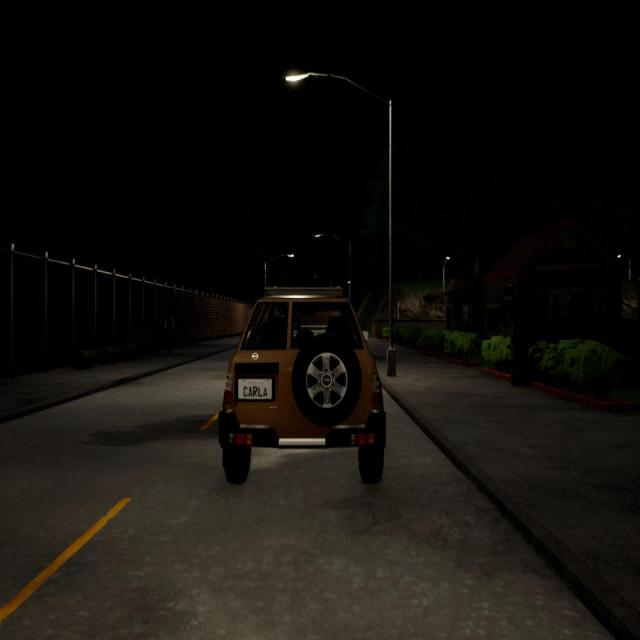Pedestrian: (163, 309, 176, 359)
Traffic_Signs: (247, 308, 253, 318)
Vehicle: (218, 288, 386, 487)
traffic_light: (398, 305, 401, 314)
